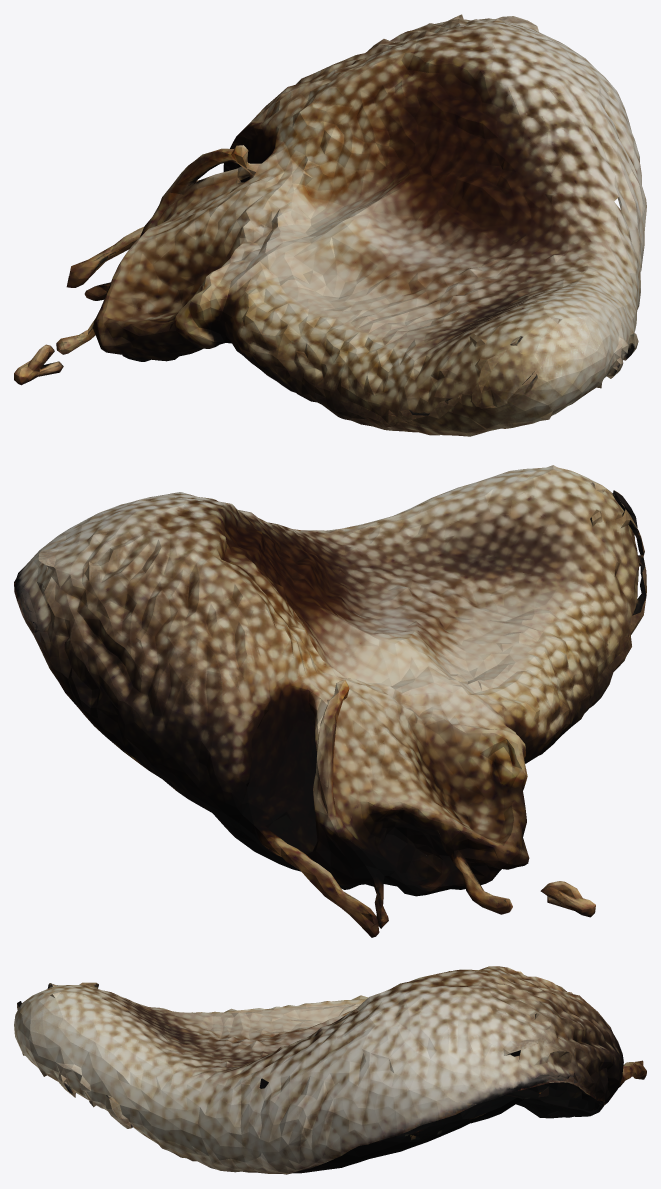
File: jute-exfoliating-mitt-rustic.jpeg.glb
3 renders of one model, top to bottom at view 1: azimuth 30°, elevation 25°; view 2: azimuth 150°, elevation 25°; view 3: azimuth 270°, elevation 25°, orthographic. The views are drawn at different scales.
Parts seen in each view (by area): view 1: world; view 2: world; view 3: world.
Boxes of the visible parts, x1,y1,x2,y2 form: world: (14, 14, 646, 436); world: (14, 465, 646, 937); world: (14, 966, 646, 1174).
Size of the model in its own units: 0.9136 by 0.4053 by 0.9987.
1 material, 1 textured.
